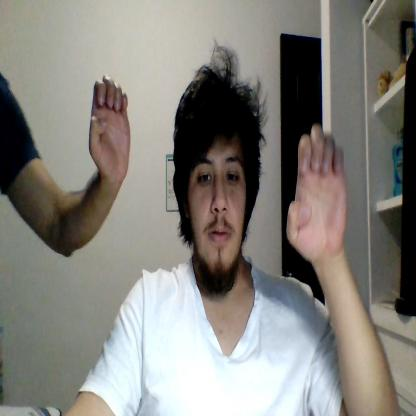E: (286, 124, 348, 258), (89, 75, 131, 180)
